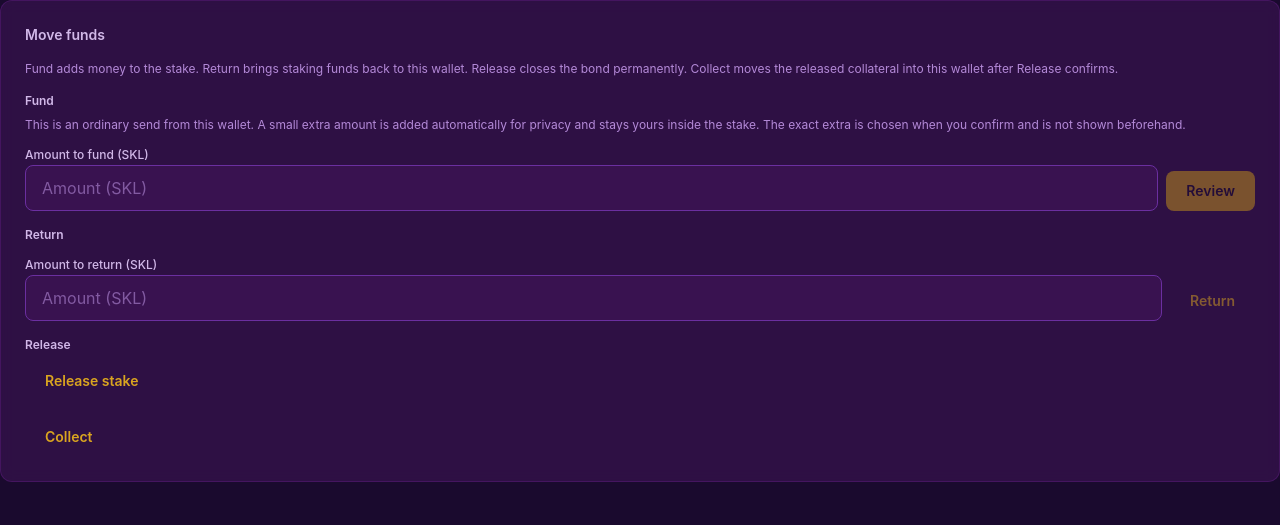
Test: StakeActions fund reservation › discards and rebuilds when the chain moves during review
Type "1" into the field with placeholder "Amount (SKL)" at (592, 188), box [25,165,1158,211]
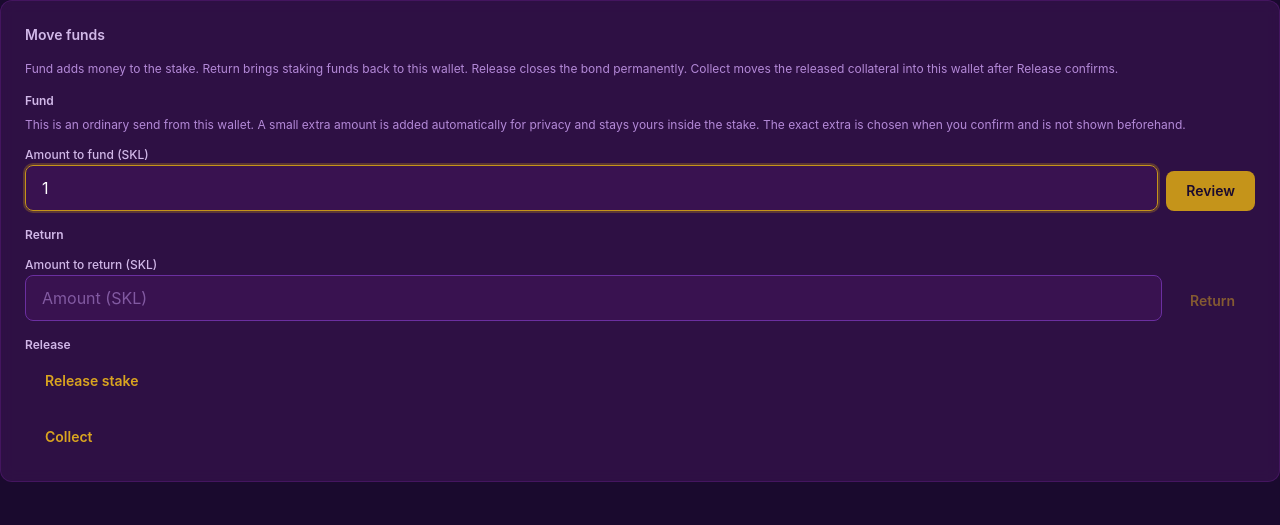
Click the button "Review" at (1211, 191), box [1166,171,1255,211]
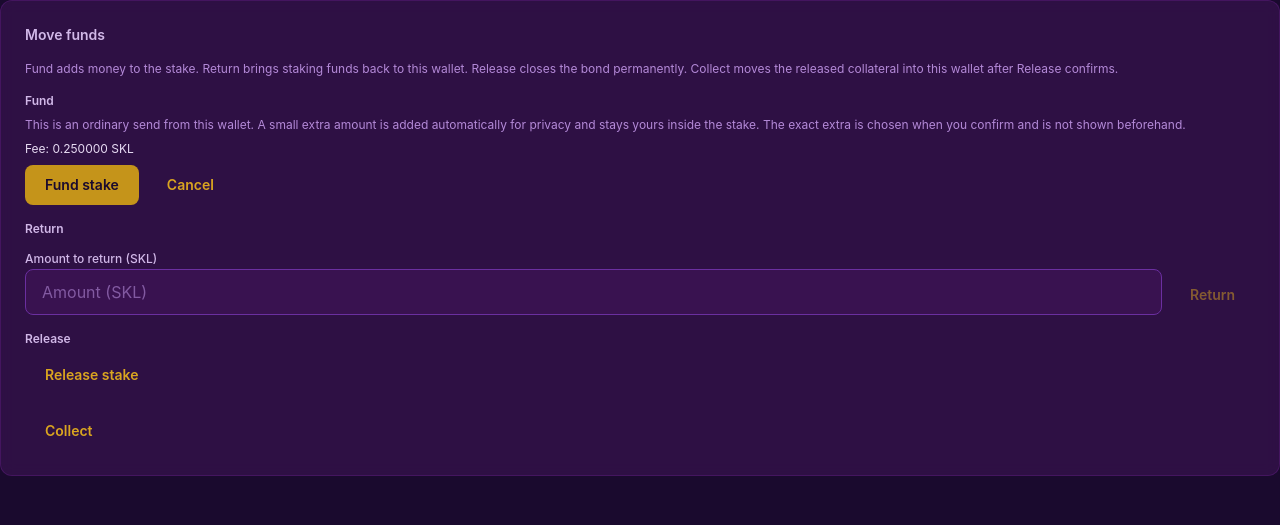
Check: the text "Fee: 0.250000 SKL" is shown, box [25,141,134,156]
Click the button "Fund stake" at (82, 185), box [25,165,139,205]
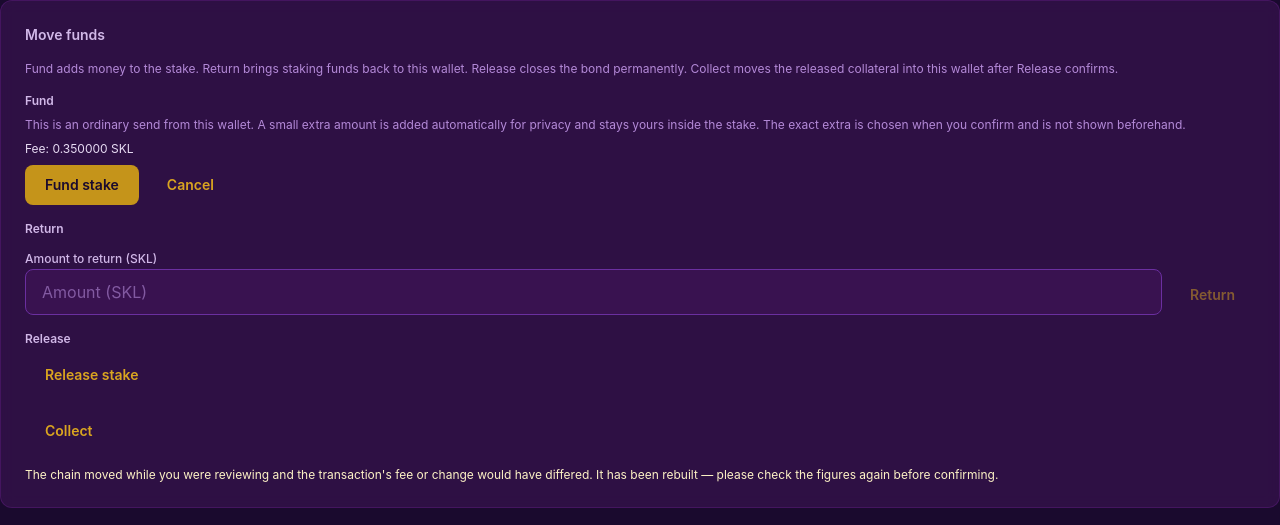
Check: the text "Fee: 0.350000 SKL" is shown, box [25,141,134,156]
